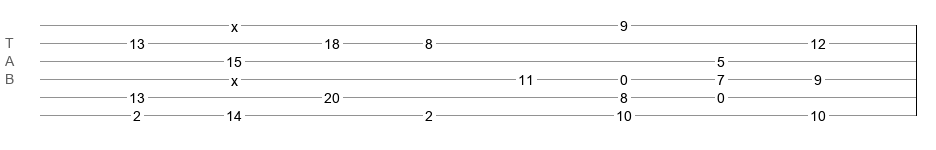0: (620, 72, 628, 82), (717, 90, 725, 100)
10: (616, 108, 632, 118), (810, 108, 826, 118)
11: (518, 72, 534, 82)
12: (810, 36, 826, 46)
13: (129, 90, 145, 100), (129, 36, 145, 46)
14: (226, 108, 242, 118)
15: (226, 54, 242, 64)
18: (324, 36, 340, 46)
2: (133, 108, 141, 118), (425, 108, 433, 118)
20: (324, 90, 340, 100)
5: (717, 54, 725, 64)
7: (717, 72, 725, 82)
8: (425, 36, 433, 46), (620, 90, 628, 100)
9: (620, 18, 628, 28), (814, 72, 822, 82)
x: (231, 73, 238, 81), (231, 19, 238, 27)
